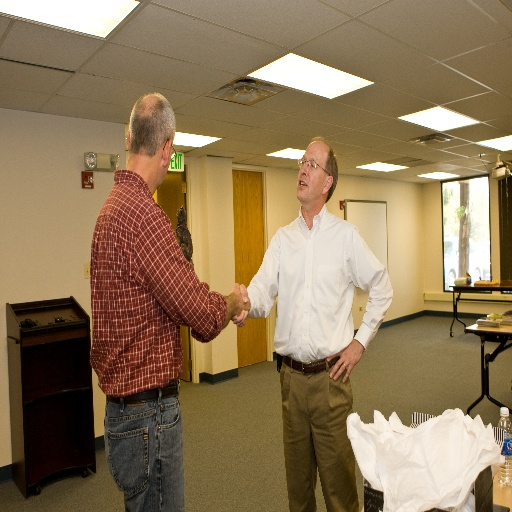hand: (336, 336, 370, 389), (231, 281, 248, 329), (230, 281, 252, 316)
